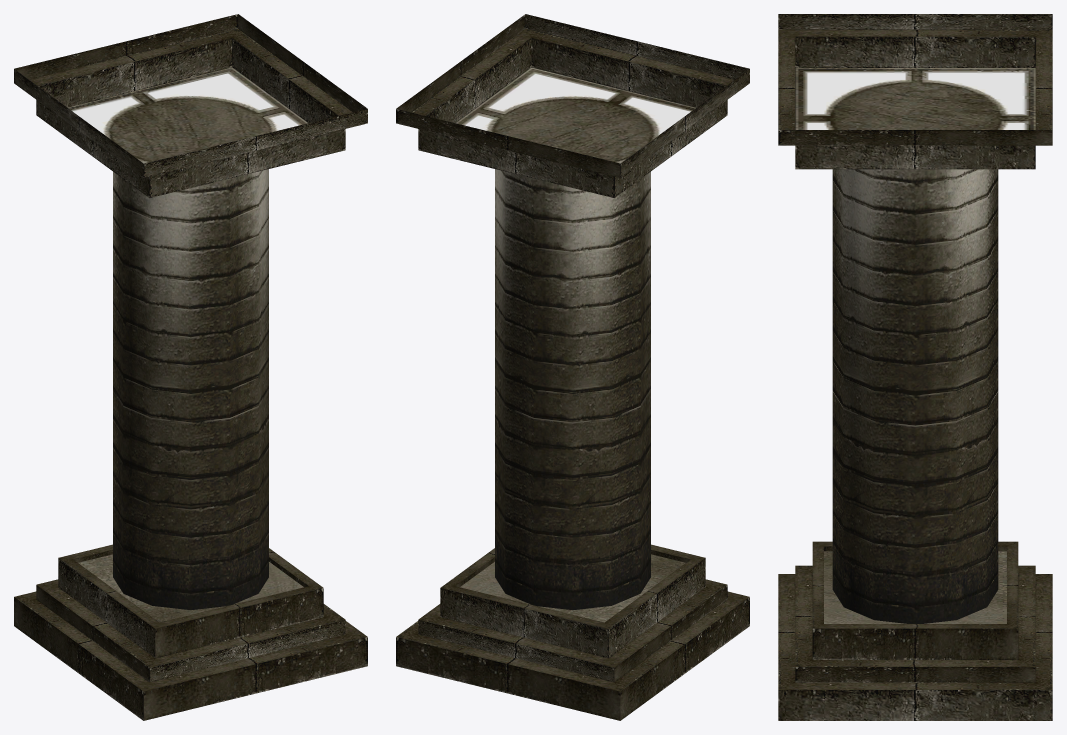
The model's file is colomn_small.fbx.
3 renders of one model, left to right at view 1: azimuth 30°, elevation 25°; view 2: azimuth 150°, elevation 25°; view 3: azimuth 270°, elevation 25°, orthographic. The views are drawn at different scales.
Parts seen in each view (by area): view 1: mesh_0, mesh_1; view 2: mesh_0, mesh_1; view 3: mesh_0, mesh_1.
Boxes of the visible parts, x1,y1,x2,y2 form: mesh_0: (14, 14, 367, 720); mesh_1: (113, 169, 268, 610); mesh_0: (396, 14, 749, 720); mesh_1: (495, 169, 650, 610); mesh_0: (778, 14, 1052, 720); mesh_1: (832, 169, 998, 623).
Size of the model in its own units: 160 by 380 by 160.
Materials: 2 (2 with a texture image).
